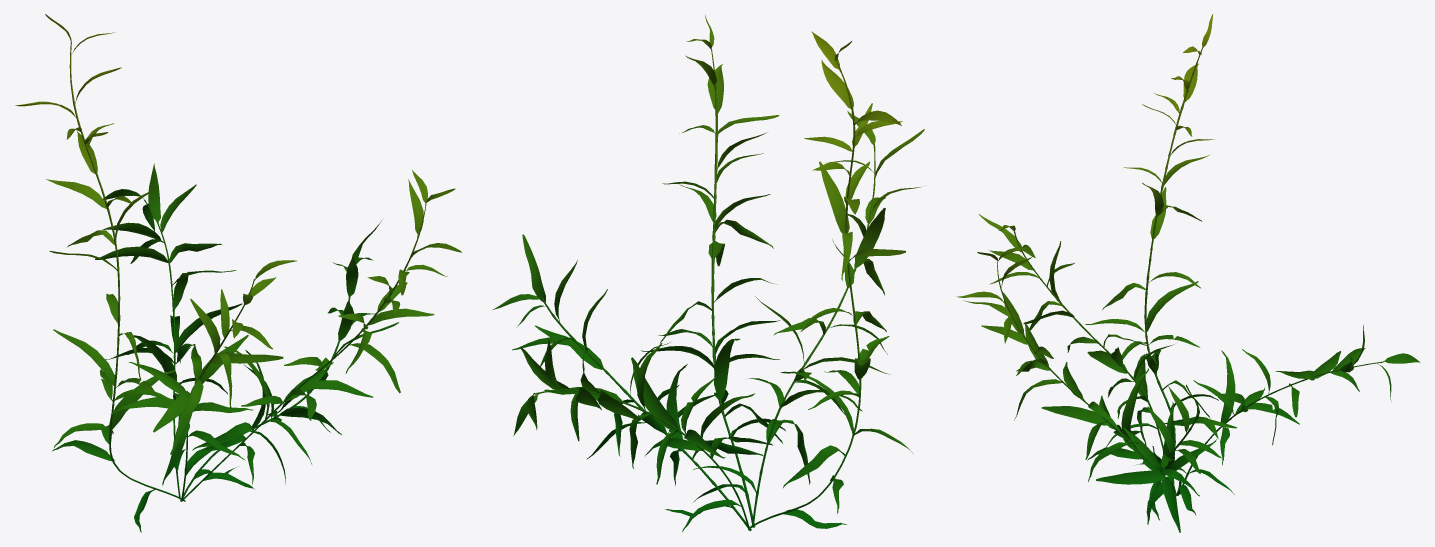
File: shrub_02_0.glb
The picture shows the model from 3 angles, left to right: view 1: azimuth 30°, elevation 25°; view 2: azimuth 150°, elevation 25°; view 3: azimuth 270°, elevation 25°; orthographic projection. The views are drawn at different scales.
Parts seen in each view (by area): view 1: shrub_02_a; view 2: shrub_02_a; view 3: shrub_02_a.
Boxes of the visible parts, left/top/right/bottom form: shrub_02_a: left=15, top=14, right=461, bottom=532; shrub_02_a: left=492, top=15, right=924, bottom=531; shrub_02_a: left=956, top=14, right=1419, bottom=532.
Size of the model in its own units: 1.31 by 1.69 by 1.64.
